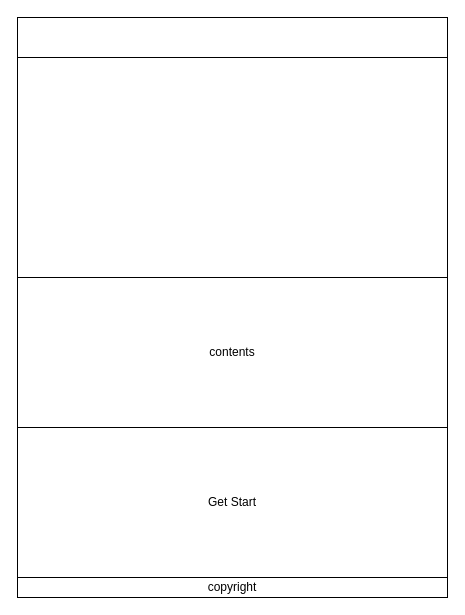
This 465x615 diagram has some shape labels left out. The centre of each missing label's shape, as x and y in pixels:
mein menu: (x=232, y=37)
QC2020: (x=232, y=167)
